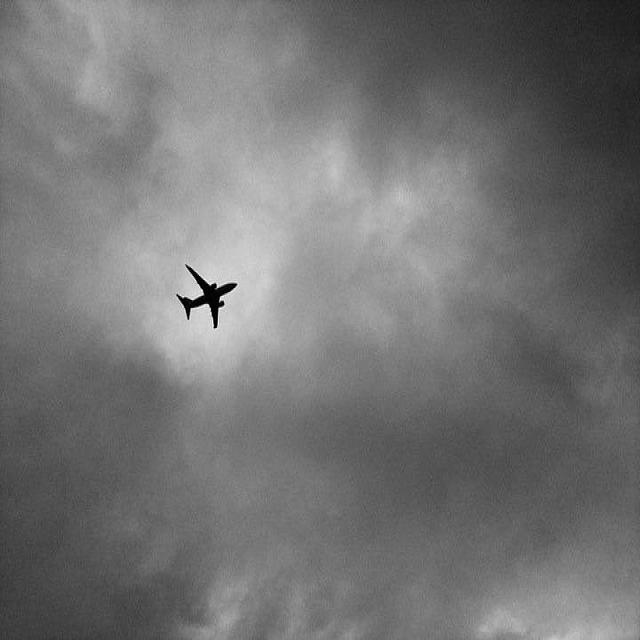airplane: (176, 261, 240, 331)
